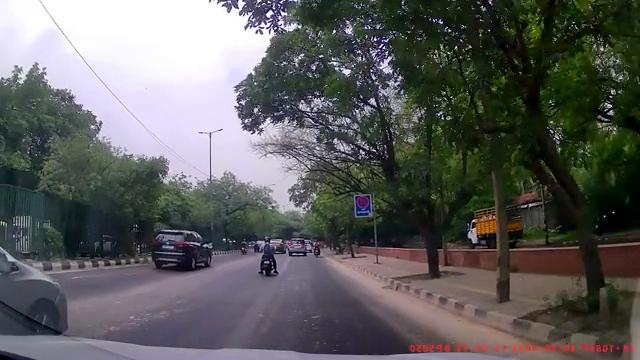motorcycle_with_helmet: (257, 235, 279, 277)
